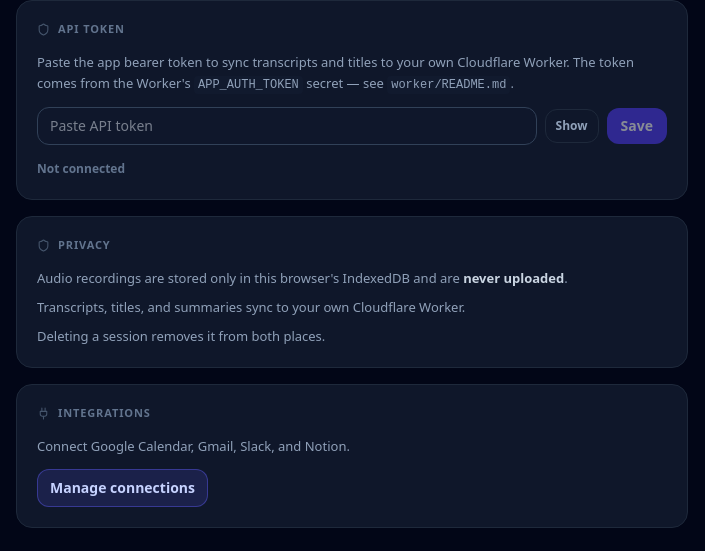
Test case: SettingsPage token card › a 401 shows Invalid token
In the password field labelled "API token": (287, 126) [37,107,537,145], type "bad-token"
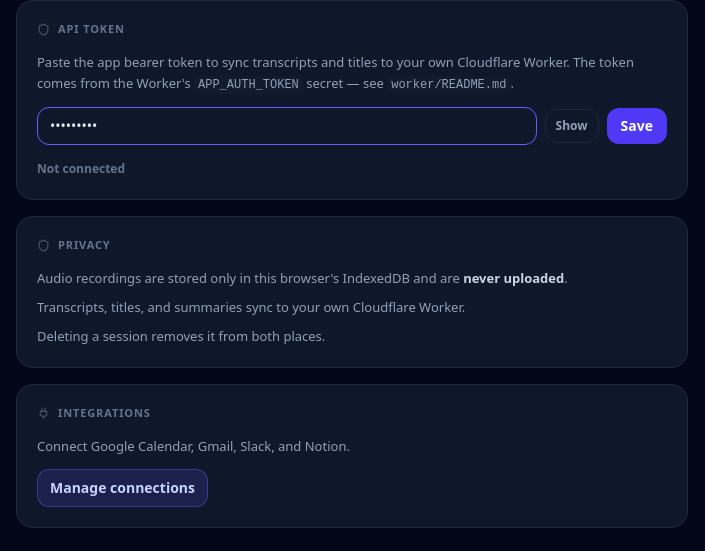
Click the button "Save": (637, 126) [607,108,667,144]
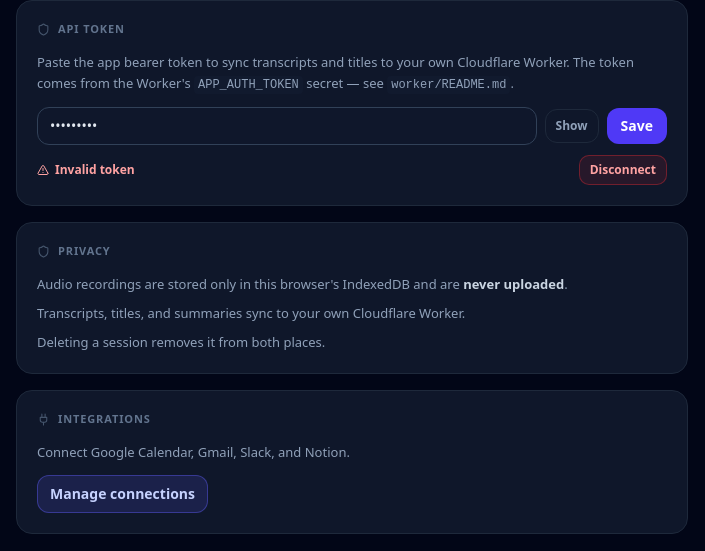
Result: the element with test id "token-status" reads "Invalid token" at [55,161,135,178]
